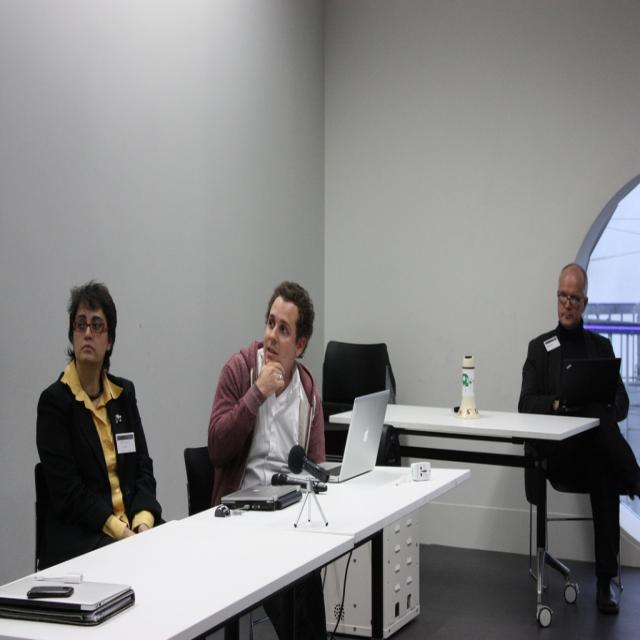chair: (322, 340, 396, 431), (184, 445, 214, 516), (34, 462, 50, 571)
desk: (21, 460, 473, 638)
laptop: (294, 388, 390, 483), (558, 357, 624, 413)
person: (519, 262, 639, 618), (36, 280, 162, 571), (207, 280, 328, 504)
